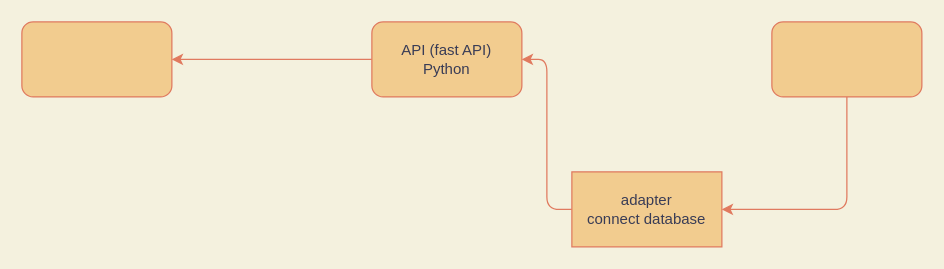
The diagram is 944 pixels wide and 269 high, and some of its shapes have lost their labels. The centre of each missing label's shape, as x and y in pixels:
"Firebase" belongs at pixel 846 59.
"UI (html, javascript)" belongs at pixel 96 59.
